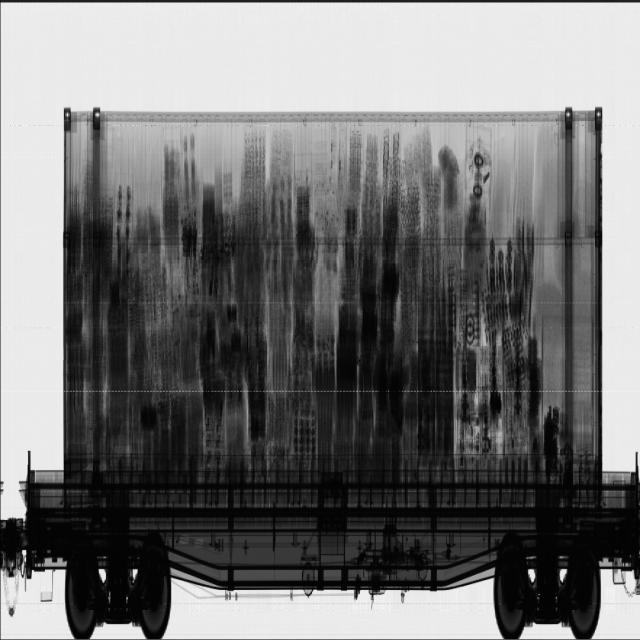auto parts: (455, 239, 566, 462)
textiles: (487, 122, 597, 449)
